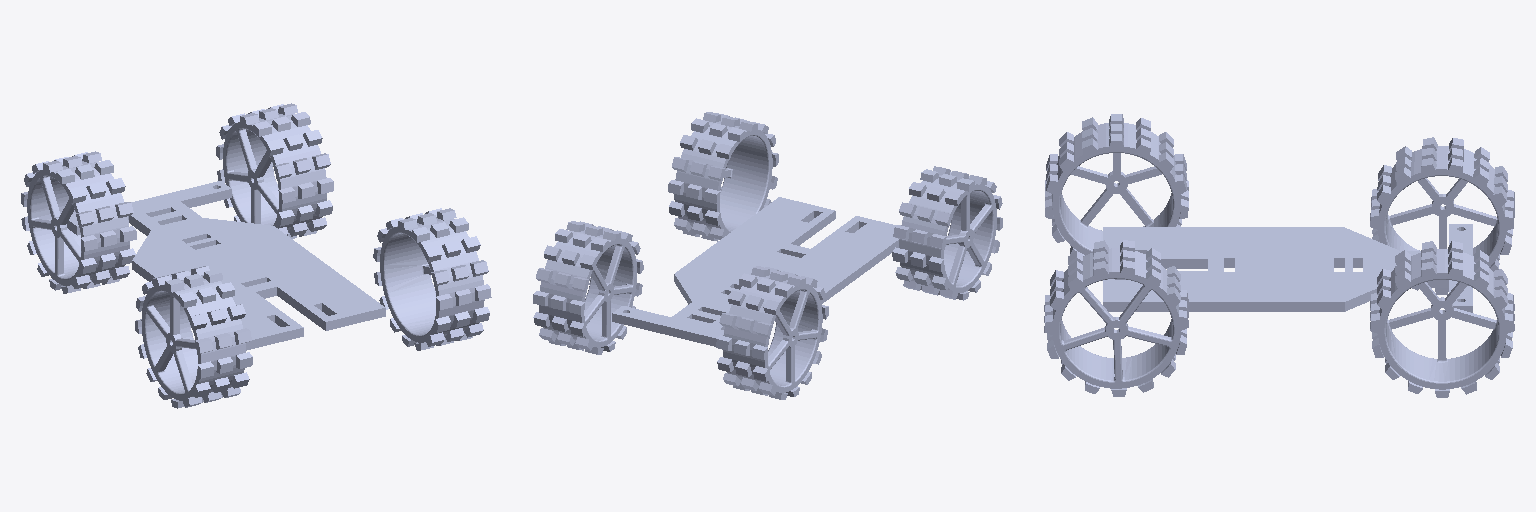
The robot description file, URDF, robot "main_car":
<?xml version="1.0" encoding="utf-8"?>
<!-- This URDF was automatically created by SolidWorks to URDF Exporter! Originally created by Stephen Brawner (brawner@gmail.com) 
     Commit Version: 1.6.0-4-g7f85cfe  Build Version: 1.6.7995.38578
     For more information, please see http://wiki.ros.org/sw_urdf_exporter -->
<robot
  name="main_car">
  <link
    name="base_link">
    <inertial>
      <origin
        xyz="0.0550010502932839 0.107537951269826 0.00334999999999999"
        rpy="0 0 0" />
      <mass
        value="0.134222467498483" />
      <inertia
        ixx="0.000530200326568241"
        ixy="-5.67919391311907E-09"
        ixz="-1.76248030298264E-21"
        iyy="0.000135714042427226"
        iyz="3.34707369393806E-20"
        izz="0.000664910161234466" />
    </inertial>
    <visual>
      <origin
        xyz="0 0 0"
        rpy="0 0 0" />
      <geometry>
        <mesh
          filename="package://main_car/meshes/base_link.STL" />
      </geometry>
      <material
        name="">
        <color
          rgba="0.792156862745098 0.819607843137255 0.933333333333333 1" />
      </material>
    </visual>
    <collision>
      <origin
        xyz="0 0 0"
        rpy="0 0 0" />
      <geometry>
        <mesh
          filename="package://main_car/meshes/base_link.STL" />
      </geometry>
    </collision>
  </link>
  <link
    name="front_left_wheel_rot">
    <inertial>
      <origin
        xyz="0.0140059336705225 -0.000298132524582245 2.0136146222649E-11"
        rpy="0 0 0" />
      <mass
        value="0.0632357163080549" />
      <inertia
        ixx="9.19085546593651E-05"
        ixy="-8.09825501204194E-07"
        ixz="1.20163261773059E-14"
        iyy="5.38810910625253E-05"
        iyz="6.77370125186707E-15"
        izz="5.38638529545862E-05" />
    </inertial>
    <visual>
      <origin
        xyz="0 0 0"
        rpy="0 0 0" />
      <geometry>
        <mesh
          filename="package://main_car/meshes/front_left_wheel_rot.STL" />
      </geometry>
      <material
        name="">
        <color
          rgba="0.792156862745098 0.819607843137255 0.933333333333333 1" />
      </material>
    </visual>
    <collision>
      <origin
        xyz="0 0 0"
        rpy="0 0 0" />
      <geometry>
        <mesh
          filename="package://main_car/meshes/front_left_wheel_rot.STL" />
      </geometry>
    </collision>
  </link>
  <joint
    name="front_left_wheel_rot_j"
    type="continuous">
    <origin
      xyz="-0.0212429479041969 0.211254558119221 0.0117"
      rpy="0 0 0" />
    <parent
      link="base_link" />
    <child
      link="front_left_wheel_rot" />
    <axis
      xyz="0.999773526729787 -0.0212813357260371 0" />
  </joint>
  <link
    name="front_right_wheel_rot">
    <inertial>
      <origin
        xyz="-0.0140091063539903 3.84884683318765E-07 2.00286714296949E-11"
        rpy="0 0 0" />
      <mass
        value="0.063235716308098" />
      <inertia
        ixx="9.19257926846956E-05"
        ixy="-1.04565885334305E-09"
        ixz="-1.11213198402949E-14"
        iyy="5.38638529697797E-05"
        iyz="2.26041848100353E-14"
        izz="5.38638529842861E-05" />
    </inertial>
    <visual>
      <origin
        xyz="0 0 0"
        rpy="0 0 0" />
      <geometry>
        <mesh
          filename="package://main_car/meshes/front_right_wheel_rot.STL" />
      </geometry>
      <material
        name="">
        <color
          rgba="0.792156862745098 0.819607843137255 0.933333333333333 1" />
      </material>
    </visual>
    <collision>
      <origin
        xyz="0 0 0"
        rpy="0 0 0" />
      <geometry>
        <mesh
          filename="package://main_car/meshes/front_right_wheel_rot.STL" />
      </geometry>
    </collision>
  </link>
  <joint
    name="front_right_wheel_rot_j"
    type="continuous">
    <origin
      xyz="0.131001462865903 0.210751140085241 0.0117"
      rpy="0 0 0" />
    <parent
      link="base_link" />
    <child
      link="front_right_wheel_rot" />
    <axis
      xyz="0.999773526729787 -0.0212813357260373 0" />
  </joint>
  <link
    name="back_right_wheel_rot">
    <inertial>
      <origin
        xyz="-0.0140091063592719 2.5813979426248E-11 2.29318820876845E-12"
        rpy="0 0 0" />
      <mass
        value="0.0632357163080607" />
      <inertia
        ixx="9.19257927563821E-05"
        ixy="-2.17970510345369E-14"
        ixz="3.01020545320689E-15"
        iyy="5.38638529833055E-05"
        iyz="-6.77675512652883E-15"
        izz="5.38638529849817E-05" />
    </inertial>
    <visual>
      <origin
        xyz="0 0 0"
        rpy="0 0 0" />
      <geometry>
        <mesh
          filename="package://main_car/meshes/back_right_wheel_rot.STL" />
      </geometry>
      <material
        name="">
        <color
          rgba="0.792156862745098 0.819607843137255 0.933333333333333 1" />
      </material>
    </visual>
    <collision>
      <origin
        xyz="0 0 0"
        rpy="0 0 0" />
      <geometry>
        <mesh
          filename="package://main_car/meshes/back_right_wheel_rot.STL" />
      </geometry>
    </collision>
  </link>
  <joint
    name="back_right_wheel_rot_j"
    type="continuous">
    <origin
      xyz="0.166149999999796 0.00849999999999998 0.0147"
      rpy="0 0 0" />
    <parent
      link="base_link" />
    <child
      link="back_right_wheel_rot" />
    <axis
      xyz="1 0 0" />
  </joint>
  <link
    name="back_left_wheel_rot">
    <inertial>
      <origin
        xyz="0.0140091063592776 2.88707530105015E-11 -1.99775300468996E-11"
        rpy="0 0 0" />
      <mass
        value="0.0632357163080669" />
      <inertia
        ixx="9.19257927241759E-05"
        ixy="2.78841514454636E-14"
        ixz="-1.11056134188343E-14"
        iyy="5.38638529869599E-05"
        iyz="-1.5365130409098E-17"
        izz="5.38638529491242E-05" />
    </inertial>
    <visual>
      <origin
        xyz="0 0 0"
        rpy="0 0 0" />
      <geometry>
        <mesh
          filename="package://main_car/meshes/back_left_wheel_rot.STL" />
      </geometry>
      <material
        name="">
        <color
          rgba="0.792156862745098 0.819607843137255 0.933333333333333 1" />
      </material>
    </visual>
    <collision>
      <origin
        xyz="0 0 0"
        rpy="0 0 0" />
      <geometry>
        <mesh
          filename="package://main_car/meshes/back_left_wheel_rot.STL" />
      </geometry>
    </collision>
  </link>
  <joint
    name="back_left_wheel_rot_j"
    type="continuous">
    <origin
      xyz="-0.0488500000002041 0.00849999999999978 0.0147000000000001"
      rpy="0 0 0" />
    <parent
      link="base_link" />
    <child
      link="back_left_wheel_rot" />
    <axis
      xyz="1 0 0" />
  </joint>
  <link
    name="front_left_wheel_steer">
    <inertial>
      <origin
        xyz="0.0140059336705225 -0.000298132524582245 2.01361479573725E-11"
        rpy="0 0 0" />
      <mass
        value="0.0632357163080549" />
      <inertia
        ixx="9.19085546593651E-05"
        ixy="-8.09825501204194E-07"
        ixz="1.20163266135144E-14"
        iyy="5.38810910625253E-05"
        iyz="6.77370075113603E-15"
        izz="5.38638529545862E-05" />
    </inertial>
    <visual>
      <origin
        xyz="0 0 0"
        rpy="0 0 0" />
      <geometry>
        <mesh
          filename="package://main_car/meshes/front_left_wheel_steer.STL" />
      </geometry>
      <material
        name="">
        <color
          rgba="0.792156862745098 0.819607843137255 0.933333333333333 1" />
      </material>
    </visual>
    <collision>
      <origin
        xyz="0 0 0"
        rpy="0 0 0" />
      <geometry>
        <mesh
          filename="package://main_car/meshes/front_left_wheel_steer.STL" />
      </geometry>
    </collision>
  </link>
  <joint
    name="front_left_wheel_steer_j"
    type="revolute">
    <origin
      xyz="-0.0212429479041969 0.211254558119221 0.0117"
      rpy="0 0 0" />
    <parent
      link="base_link" />
    <child
      link="front_left_wheel_steer" />
    <axis
      xyz="0 0 -1" />
    <limit
      lower="5.6723"
      upper="0.61087"
      effort="0"
      velocity="0.5" />
  </joint>
  <link
    name="front_right_wheel_steer">
    <inertial>
      <origin
        xyz="-0.0140091063539903 3.84884683318765E-07 2.00286714296949E-11"
        rpy="0 0 0" />
      <mass
        value="0.063235716308098" />
      <inertia
        ixx="9.19257926846956E-05"
        ixy="-1.04565885334184E-09"
        ixz="-1.11213189597999E-14"
        iyy="5.38638529697797E-05"
        iyz="2.26041841385703E-14"
        izz="5.38638529842861E-05" />
    </inertial>
    <visual>
      <origin
        xyz="0 0 0"
        rpy="0 0 0" />
      <geometry>
        <mesh
          filename="package://main_car/meshes/front_right_wheel_steer.STL" />
      </geometry>
      <material
        name="">
        <color
          rgba="0.792156862745098 0.819607843137255 0.933333333333333 1" />
      </material>
    </visual>
    <collision>
      <origin
        xyz="0 0 0"
        rpy="0 0 0" />
      <geometry>
        <mesh
          filename="package://main_car/meshes/front_right_wheel_steer.STL" />
      </geometry>
    </collision>
  </link>
  <joint
    name="front_right_wheel_steer_j"
    type="revolute">
    <origin
      xyz="0.131001462865903 0.210751140085241 0.0117"
      rpy="0 0 0" />
    <parent
      link="base_link" />
    <child
      link="front_right_wheel_steer" />
    <axis
      xyz="0 0 -1" />
    <limit
      lower="5.6723"
      upper="0.61087"
      effort="0"
      velocity="0.5" />
  </joint>
</robot>

--- Facts derived from the render (not from the file) ---
Views: 3 orthographic renders of the robot side by side, from view 1: azimuth 30°, elevation 25°; view 2: azimuth 150°, elevation 25°; view 3: azimuth 270°, elevation 25°.
Model main_car with 7 links and 6 joints (2 revolute, 4 continuous), rooted at base_link, posed joints at zero except 2 at the middle of their limits (front_left_wheel_steer_j = 3.14, front_right_wheel_steer_j = 3.14).
Visible links, largest first — view 1: base_link, back_left_wheel_rot, back_right_wheel_rot, front_left_wheel_rot, front_right_wheel_steer; view 2: base_link, front_left_wheel_rot, back_left_wheel_rot, front_right_wheel_steer, back_right_wheel_rot; view 3: base_link, front_right_wheel_steer, back_right_wheel_rot, back_left_wheel_rot, front_left_wheel_rot.
Link boxes in pixels (box(x1,y1,x2,y2)): base_link: box(67, 181, 385, 350); back_left_wheel_rot: box(135, 266, 252, 408); back_right_wheel_rot: box(373, 208, 491, 350); front_left_wheel_rot: box(21, 151, 136, 293); front_right_wheel_steer: box(216, 103, 333, 238); base_link: box(612, 197, 898, 346); front_left_wheel_rot: box(716, 266, 828, 399); back_left_wheel_rot: box(892, 166, 1002, 300); front_right_wheel_steer: box(533, 221, 643, 354); back_right_wheel_rot: box(668, 112, 778, 241); base_link: box(1103, 224, 1472, 312); front_right_wheel_steer: box(1370, 241, 1514, 397); back_right_wheel_rot: box(1044, 240, 1188, 396); back_left_wheel_rot: box(1045, 114, 1188, 256); front_left_wheel_rot: box(1370, 137, 1514, 294).
Bounding box of the posed robot: 0.225 × 0.2925 × 0.0924 m (x, y, z).
Meshes: 7 distinct files referenced, 5 mesh visuals loaded (5 binary STL); not drawn: 2 (reference not matched to a file when rendering).
